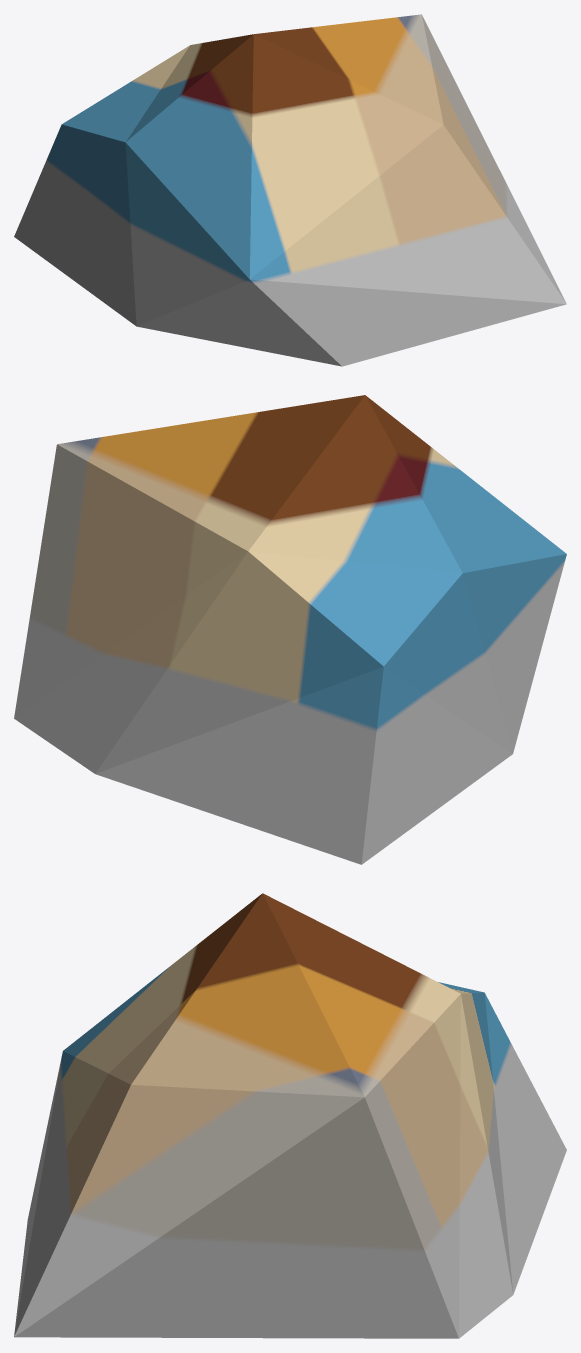
The model's file is Rock_03.fbx.
3 views of the same model, one above another, from view 1: azimuth 30°, elevation 25°; view 2: azimuth 150°, elevation 25°; view 3: azimuth 270°, elevation 25° (orthographic). The views are drawn at different scales.
Visible parts, largest first — view 1: Rock_03; view 2: Rock_03; view 3: Rock_03.
Part boxes in pixels (x1,y1,x2,y2): Rock_03: (14, 14, 566, 366); Rock_03: (14, 395, 566, 864); Rock_03: (14, 893, 566, 1338).
Bounding box in the file's own units: 0.8867 × 0.6693 × 1.02.
